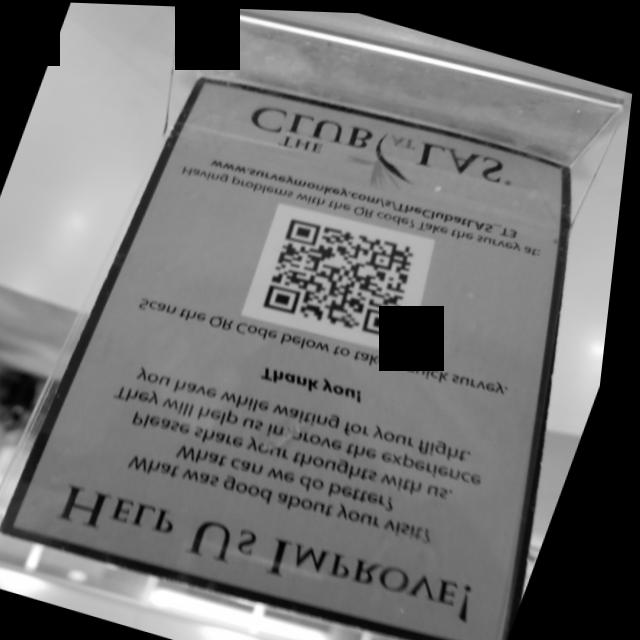QR_CODE: (249, 200, 442, 353)
